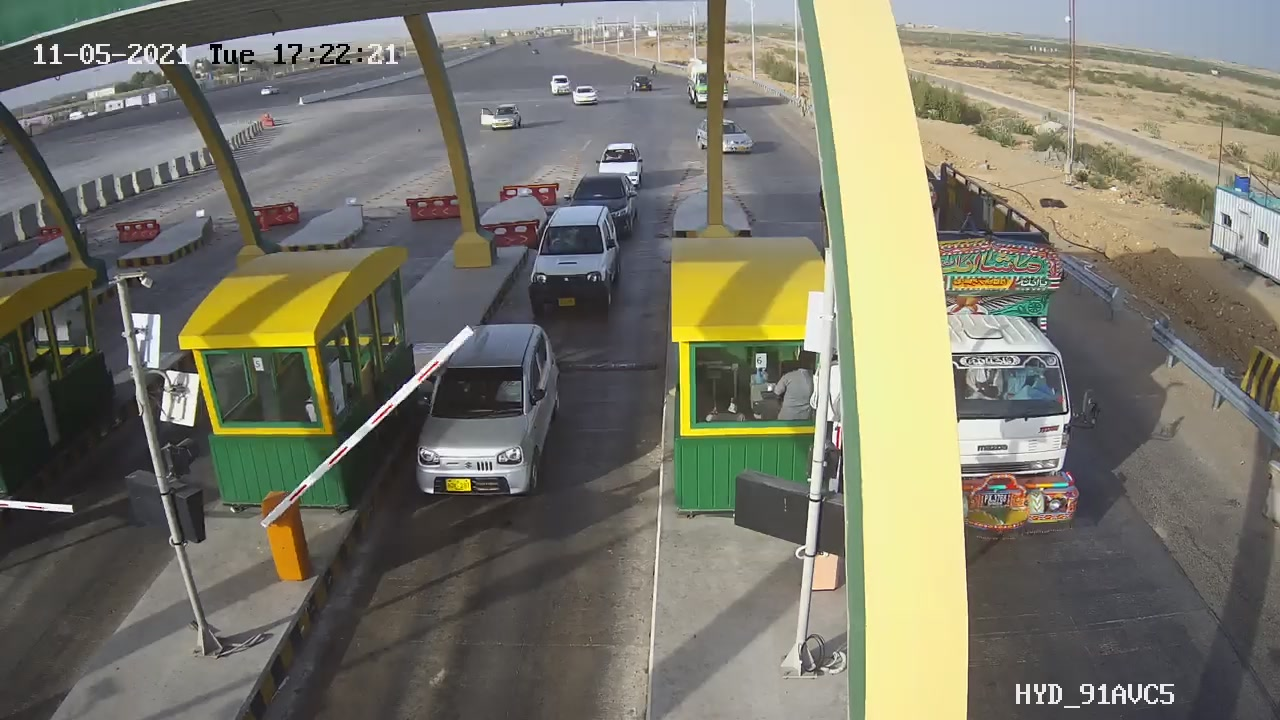F1: (399, 311, 577, 512), (516, 196, 637, 321)
